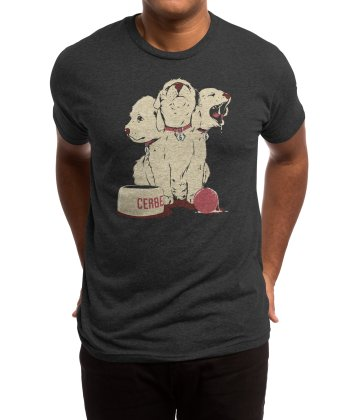design: (113, 75, 235, 221)
